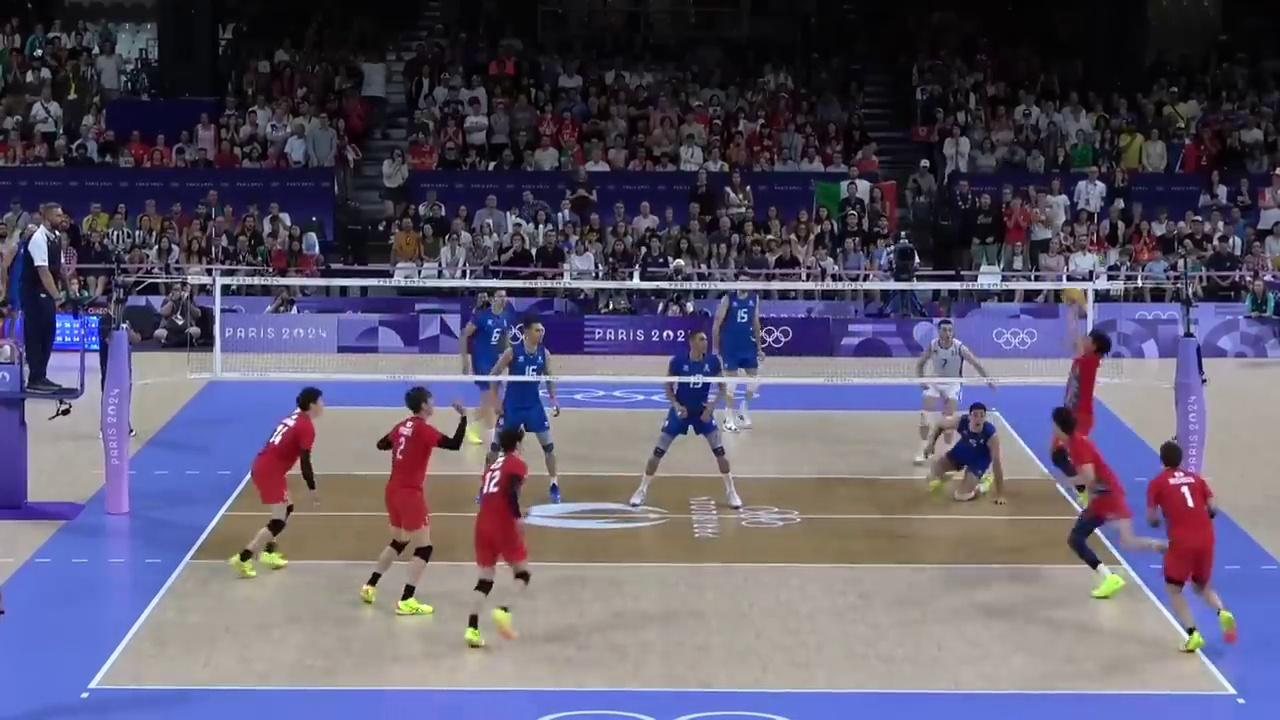ball: (1064, 289, 1087, 315)
